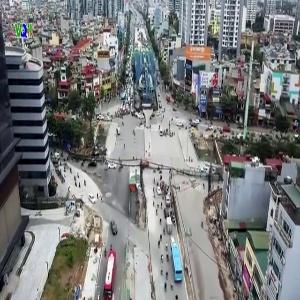drone: (67, 187, 100, 220)
